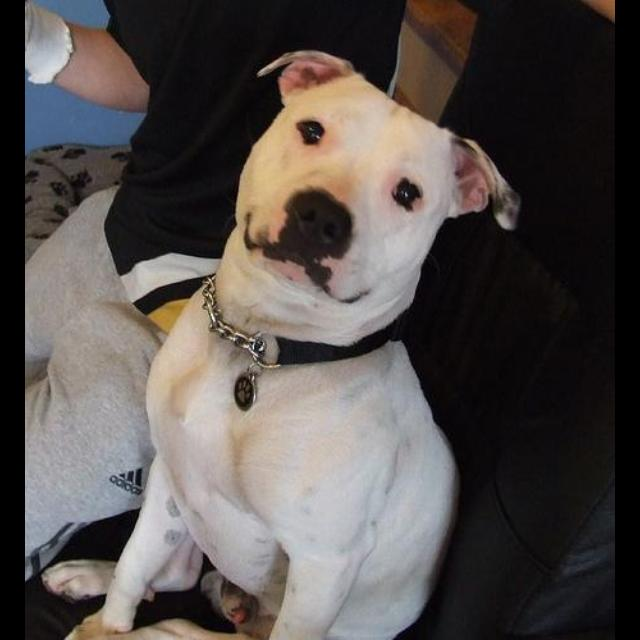staffford: (41, 49, 522, 640)
